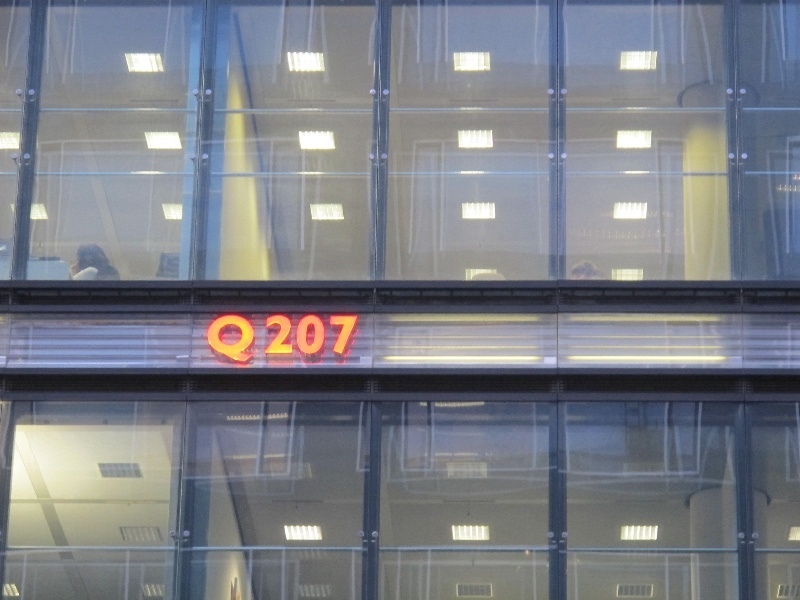text: (209, 316, 224, 362), (225, 316, 240, 362), (241, 316, 256, 362), (257, 316, 272, 362), (273, 316, 288, 362), (289, 316, 304, 362), (305, 316, 320, 362), (321, 316, 336, 362), (337, 316, 352, 362), (353, 316, 359, 362)
